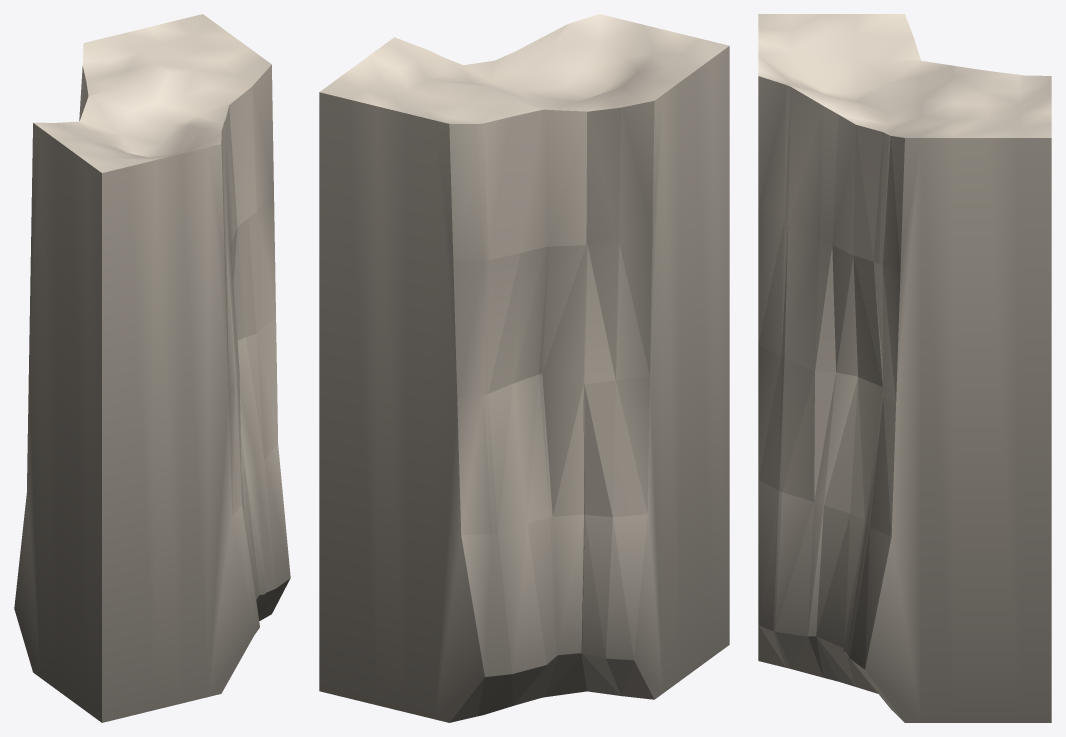
Rendered from SM_VKI_Rock_Cave_FOFO_A.fbx.
3 renders of one model, left to right at view 1: azimuth 30°, elevation 25°; view 2: azimuth 150°, elevation 25°; view 3: azimuth 270°, elevation 25°, orthographic. The views are drawn at different scales.
Visible parts, largest first — view 1: SM_VKI_Rock_Cave_FOFO_A.001; view 2: SM_VKI_Rock_Cave_FOFO_A.001; view 3: SM_VKI_Rock_Cave_FOFO_A.001.
Boxes of the visible parts, x1,y1,x2,y2 form: SM_VKI_Rock_Cave_FOFO_A.001: (14, 14, 290, 722); SM_VKI_Rock_Cave_FOFO_A.001: (319, 14, 729, 722); SM_VKI_Rock_Cave_FOFO_A.001: (758, 14, 1051, 722).
Bounding box in the file's own units: 1.5 × 3.3 × 1.5.
